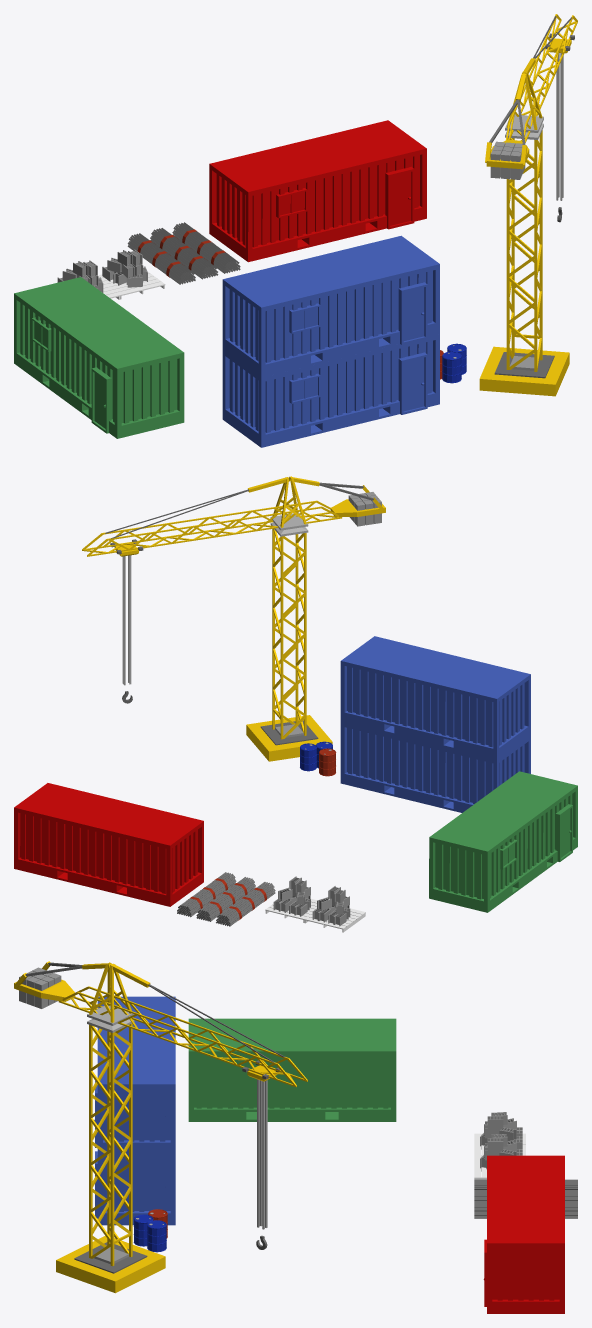
Rendered from Tutorial.fbx.
3 views of the same model, one above another, from view 1: azimuth 30°, elevation 25°; view 2: azimuth 150°, elevation 25°; view 3: azimuth 270°, elevation 25° (orthographic). The views are drawn at different scales.
Visible parts, largest first — view 1: Container__1_, Container__2_, Container__3_, Container, Cube_007, Cube, WoodenPlank_Break3_3__1_, Reber_Pile__2_, Reber_Pile__1_, Reber_Pile, Cube_002, Cube_003 (+5 smaller); view 2: Container__2_, Container__1_, Container__3_, Container, Cube_007, Cube, WoodenPlank_Break3_3, WoodenPlank_Break3_3__1_, Reber_Pile__2_, Cube_014, Reber_Pile__1_, Reber_Pile (+5 smaller); view 3: Container__3_, Container__1_, Container__2_, Cube_007, Container, Cube, Cube_014, Cube_004, Cube_003, Cube_002, Cube_001, Cube_005 (+5 smaller).
Part boxes in pixels (box(x1,y1,x2,y2)): Container__1_: box(209, 120, 426, 262); Container__2_: box(222, 235, 439, 377); Container__3_: box(14, 277, 184, 438); Container: box(222, 334, 439, 447); Cube_007: box(485, 14, 577, 179); Cube: box(479, 346, 569, 396); WoodenPlank_Break3_3__1_: box(98, 249, 165, 299); Reber_Pile__2_: box(127, 233, 195, 284); Reber_Pile__1_: box(150, 228, 218, 279); Reber_Pile: box(172, 222, 240, 273); Cube_002: box(506, 265, 542, 326); Cube_003: box(506, 218, 542, 279); Container__2_: box(340, 636, 530, 760); Container__1_: box(14, 783, 203, 906); Container__3_: box(429, 771, 577, 912); Container: box(340, 722, 530, 812); Cube_007: box(82, 476, 385, 556); Cube: box(246, 715, 332, 761); WoodenPlank_Break3_3: box(304, 886, 365, 932); WoodenPlank_Break3_3__1_: box(265, 876, 316, 922); Reber_Pile__2_: box(216, 882, 275, 926); Cube_014: box(122, 555, 131, 685); Reber_Pile__1_: box(196, 877, 255, 921); Reber_Pile: box(177, 872, 236, 917); Container__3_: box(188, 1018, 396, 1121); Container__1_: box(483, 1155, 564, 1313); Container__2_: box(94, 996, 175, 1154); Cube_007: box(14, 961, 307, 1087); Container: box(95, 1149, 175, 1225); Cube: box(56, 1236, 165, 1293); Cube_014: box(257, 1079, 267, 1229); Cube_004: box(89, 1062, 132, 1126); Cube_003: box(89, 1109, 132, 1173); Cube_002: box(89, 1156, 132, 1220); Cube_001: box(89, 1203, 132, 1266); Cube_005: box(89, 1023, 132, 1079).
Size of the model in its own units: 2314 by 1302 by 2173.
Materials: 8 (5 with a texture image).
